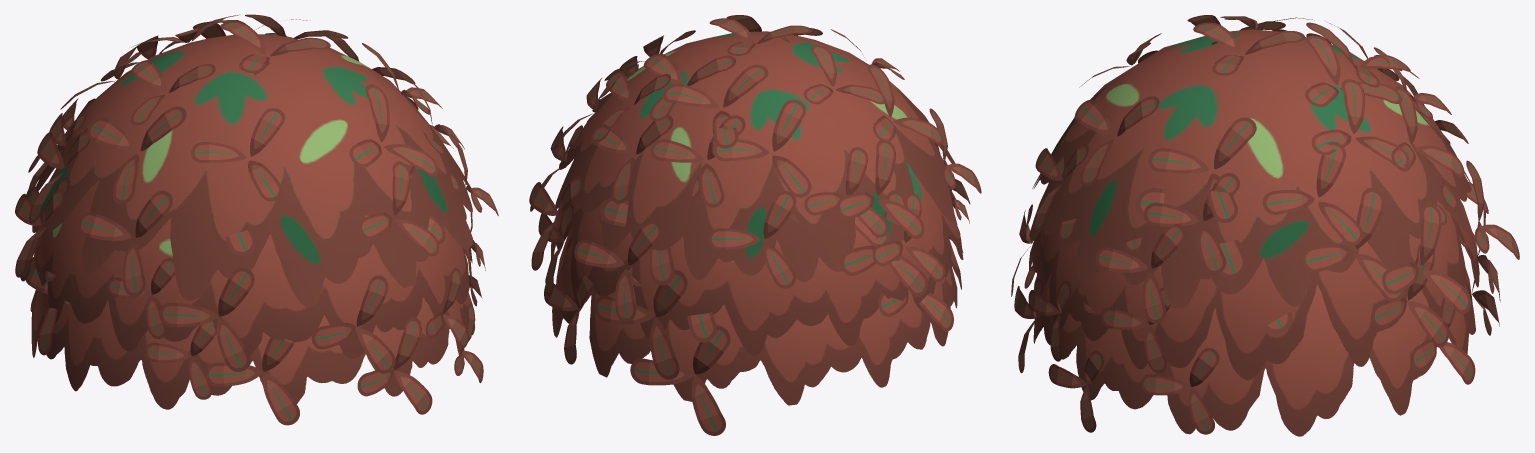
File: OneBushCrimson.fbx
3 views of the same model, side by side, from view 1: azimuth 30°, elevation 25°; view 2: azimuth 150°, elevation 25°; view 3: azimuth 270°, elevation 25° (orthographic). The views are drawn at different scales.
Parts seen in each view (by area): view 1: Sphere.018; view 2: Sphere.018; view 3: Sphere.018.
Boxes of the visible parts, box(x1,y1,x2,y2) form: Sphere.018: box(15, 14, 498, 425); Sphere.018: box(529, 15, 981, 435); Sphere.018: box(1011, 15, 1519, 436).
Size of the model in its own units: 215 by 163 by 224.
